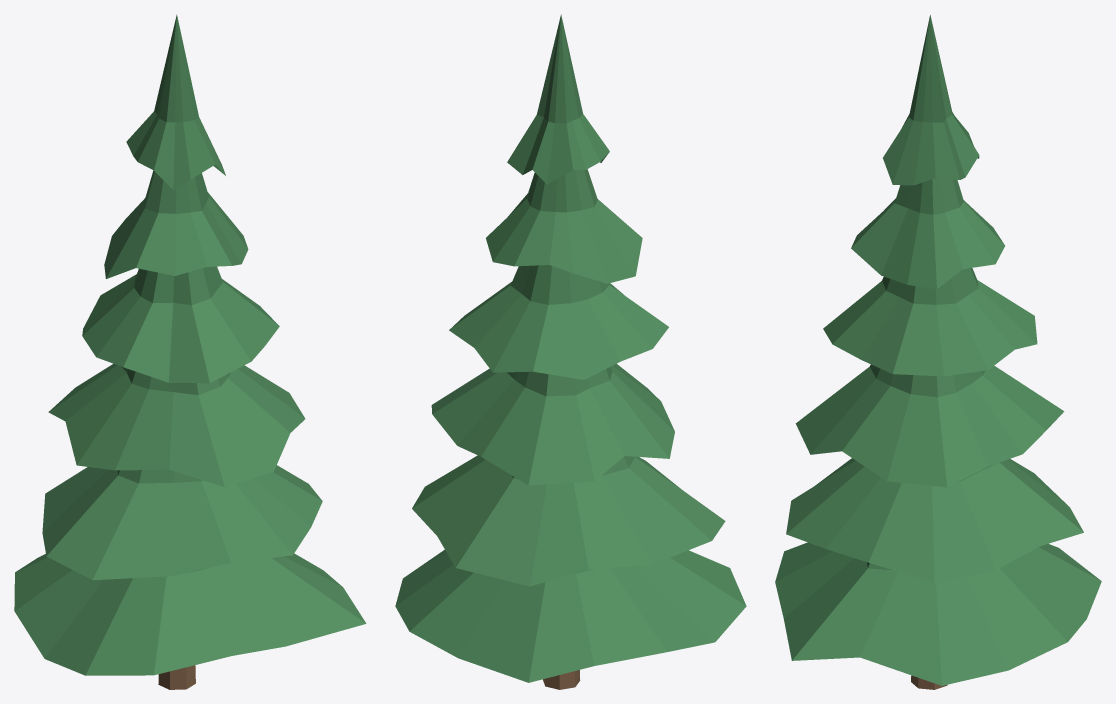
File: tree-pine.glb
3 views of the same model, side by side, from view 1: azimuth 30°, elevation 25°; view 2: azimuth 150°, elevation 25°; view 3: azimuth 270°, elevation 25° (orthographic).
Parts seen in each view (by area): view 1: tree-pine; view 2: tree-pine; view 3: tree-pine.
Part boxes in pixels (x1=…): tree-pine: x1=14, y1=14, x2=366, y2=689; tree-pine: x1=395, y1=14, x2=746, y2=689; tree-pine: x1=775, y1=15, x2=1101, y2=689.
Bounding box in the file's own units: 1.53 × 3.31 × 1.47.
